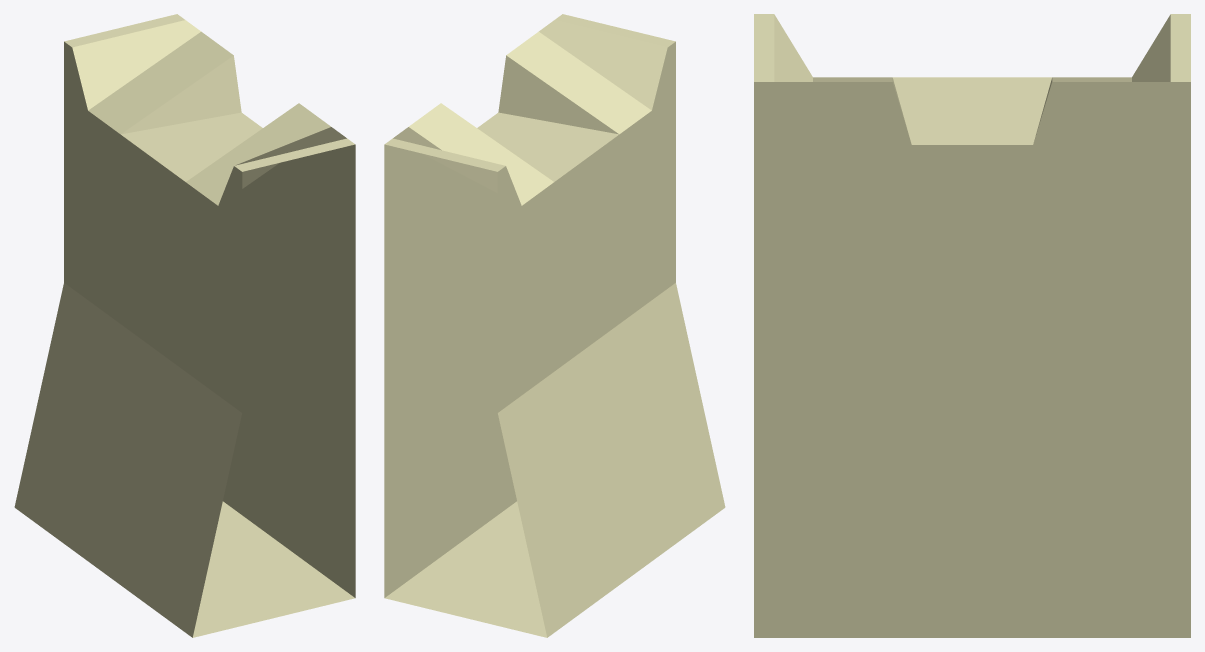
Rendered from muralha2.fbx.
3 views of the same model, side by side, from view 1: azimuth 30°, elevation 25°; view 2: azimuth 150°, elevation 25°; view 3: azimuth 270°, elevation 25° (orthographic). The views are drawn at different scales.
Visible parts, largest first — view 1: wall; view 2: wall; view 3: wall.
Boxes of the visible parts, x1,y1,x2,y2 form: wall: (14,14,355,637); wall: (384,14,725,637); wall: (754,14,1190,637).
Bounding box in the file's own units: 144 × 385 × 274.
